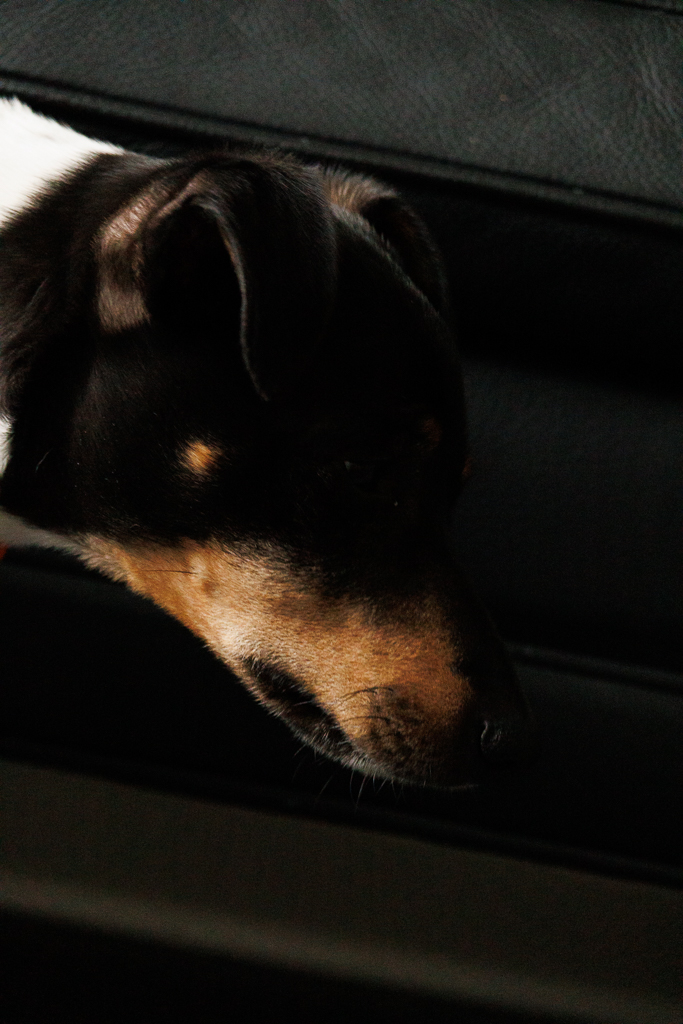Dog: (0, 86, 581, 817)
